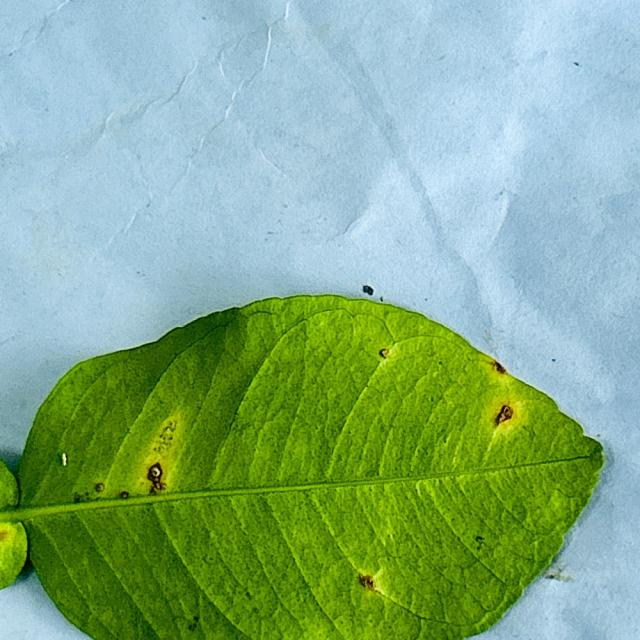Anthracnose: (354, 560, 464, 622), (138, 425, 181, 497), (487, 395, 527, 442), (356, 566, 388, 598), (480, 354, 509, 374), (380, 346, 398, 364), (0, 529, 9, 541)
Lemon: (0, 294, 607, 639)
